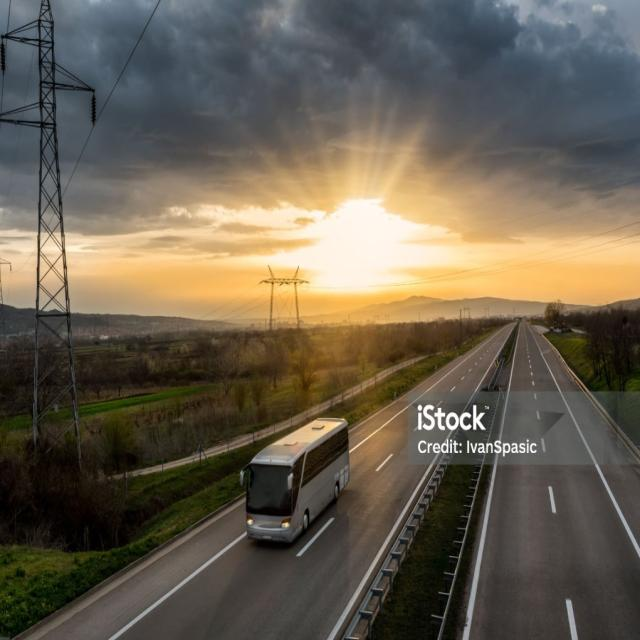bus: (241, 418, 350, 544)
